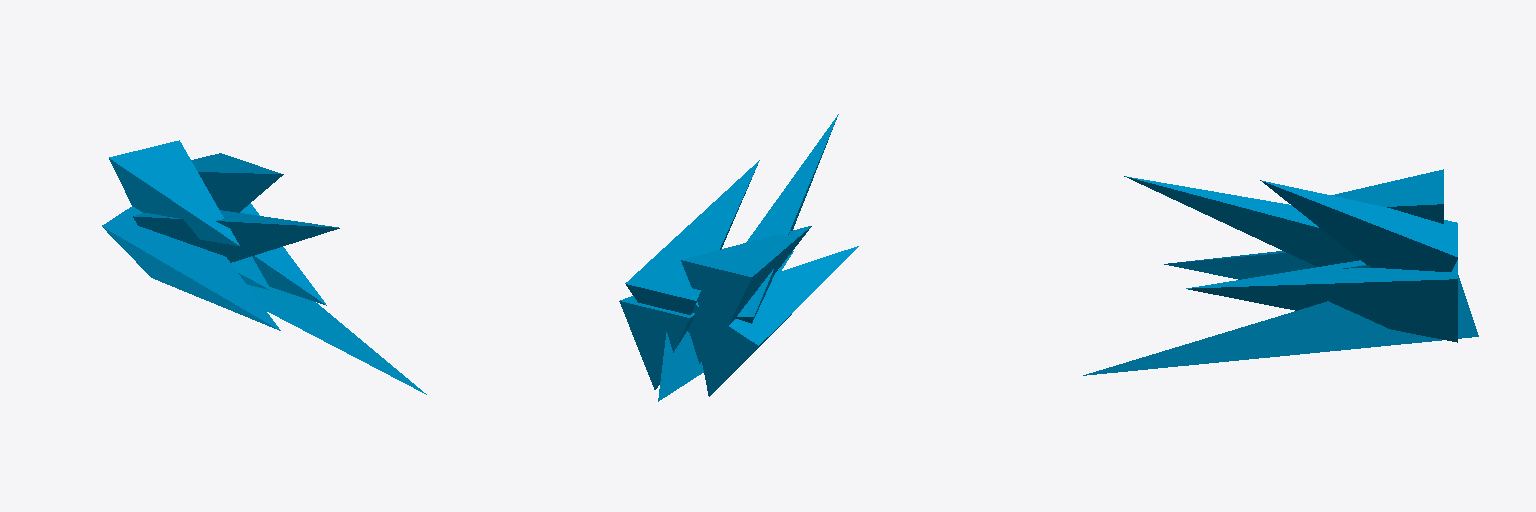
The model's file is mineral_variation_1.obj.
3 views of the same model, side by side, from view 1: azimuth 30°, elevation 25°; view 2: azimuth 150°, elevation 25°; view 3: azimuth 270°, elevation 25° (orthographic).
Parts seen in each view (by area): view 1: obj_0; view 2: obj_0; view 3: obj_0.
Boxes of the visible parts, <box> form: obj_0: <box>102,140,426,394</box>; obj_0: <box>619,114,858,401</box>; obj_0: <box>1083,169,1478,375</box>.
Size of the model in its own units: 3.62 by 4.02 by 8.58.